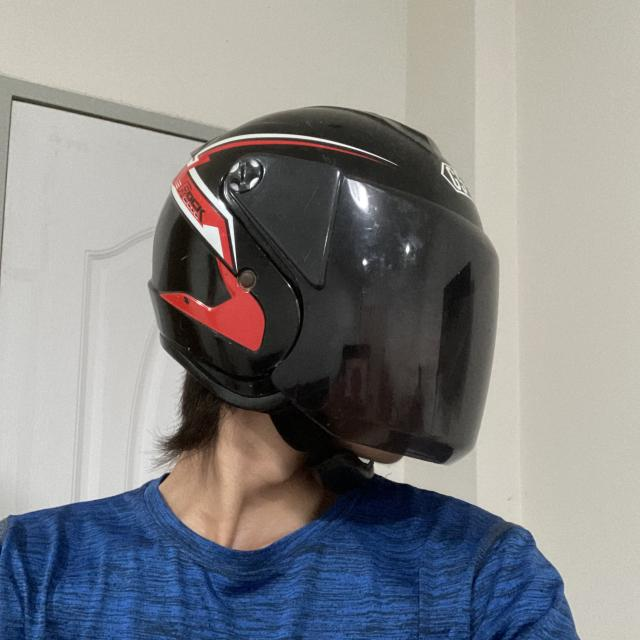helmet: (142, 99, 508, 495)
